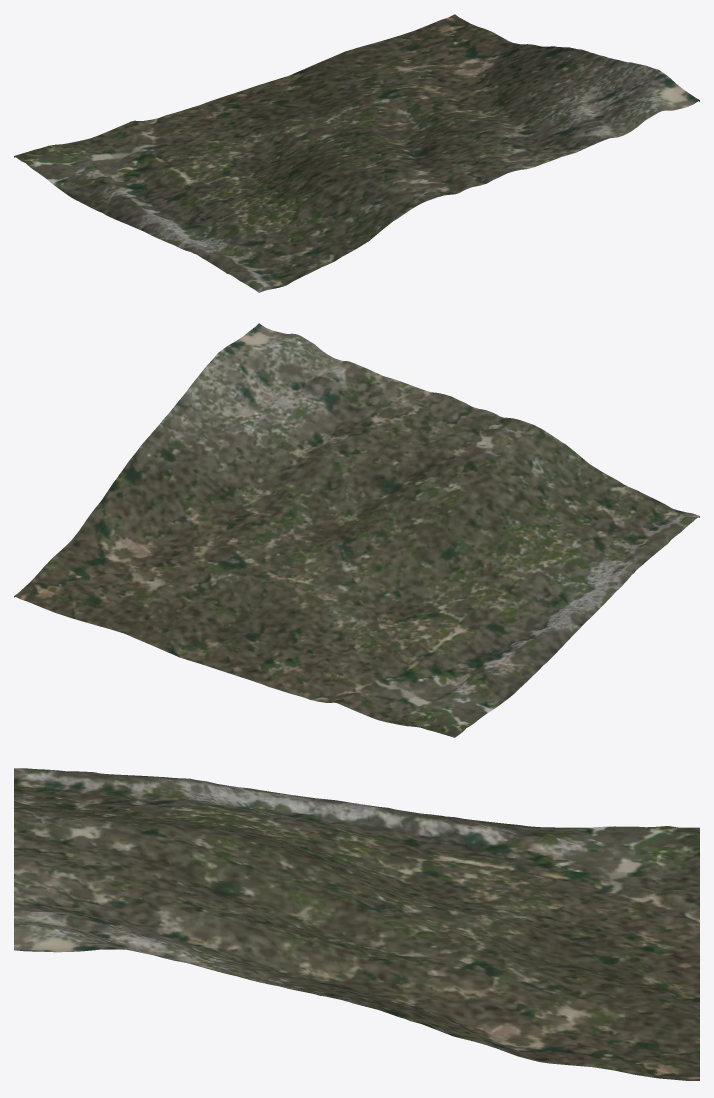
3 renders of one model, top to bottom at view 1: azimuth 30°, elevation 25°; view 2: azimuth 150°, elevation 25°; view 3: azimuth 270°, elevation 25°, orthographic. The views are drawn at different scales.
Bounding box in the file's own units: 250 × 70.99 × 241.
1 material, 1 textured.
